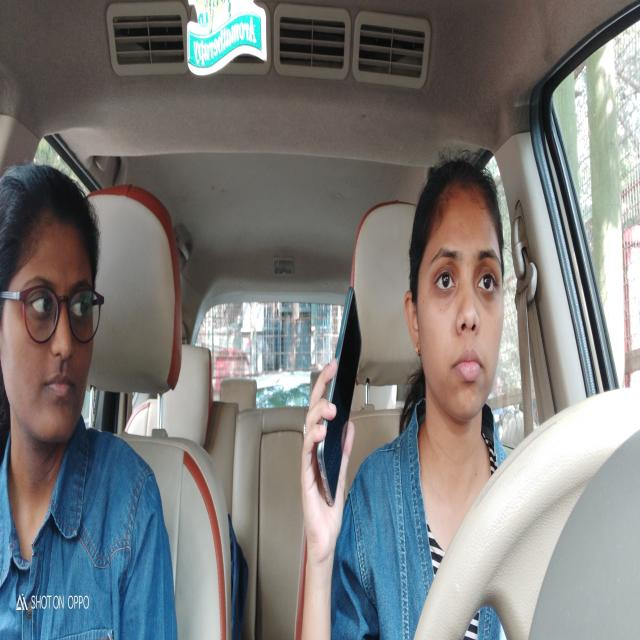mobile: (303, 269, 366, 536)
person: (1, 160, 116, 508), (403, 137, 515, 447)
